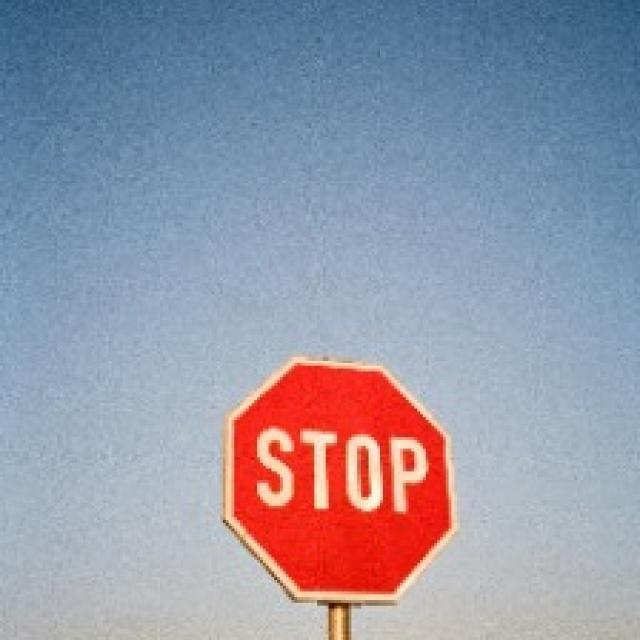stop: (220, 355, 457, 605)
